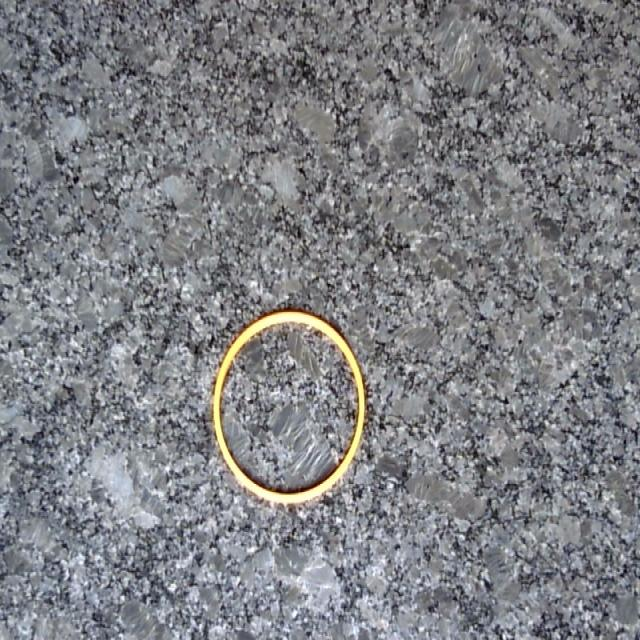orange-ring: (214, 310, 365, 503)
